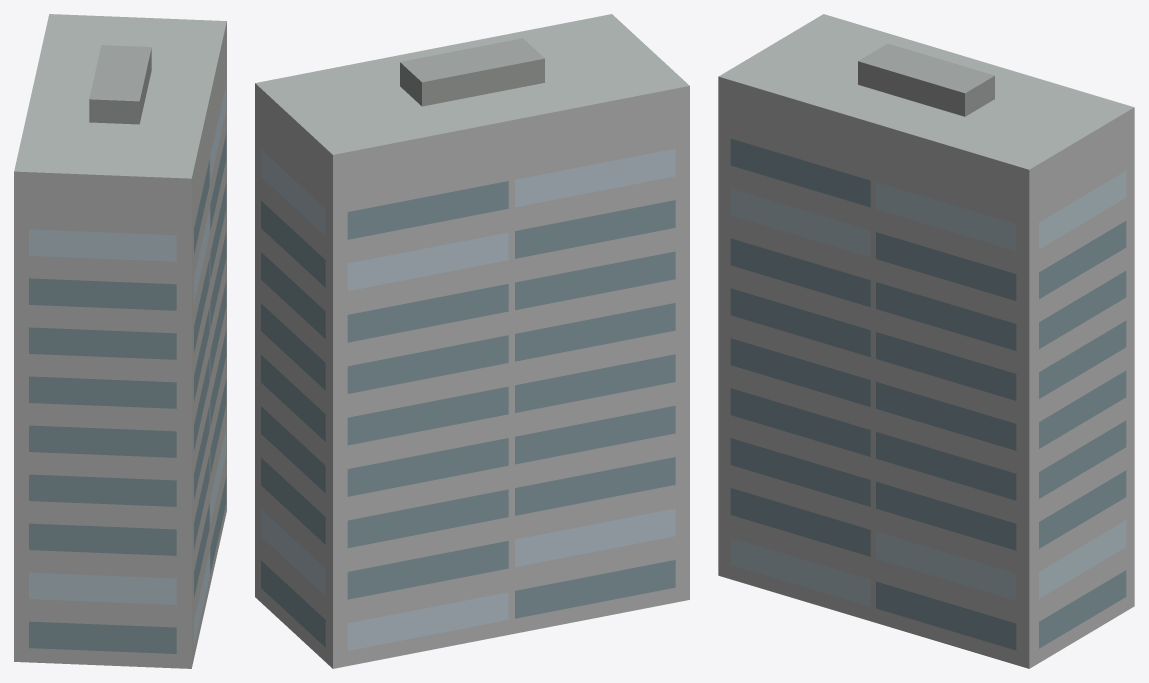
The model's file is fallback-dmc-parkview-xi-completion-403.glb.
The picture shows the model from 3 angles, left to right: view 1: azimuth 30°, elevation 25°; view 2: azimuth 150°, elevation 25°; view 3: azimuth 270°, elevation 25°; orthographic projection. The views are drawn at different scales.
Parts seen in each view (by area): view 1: fallback-dmc-parkview-xi-completion-403; view 2: fallback-dmc-parkview-xi-completion-403; view 3: fallback-dmc-parkview-xi-completion-403.
Part boxes in pixels (x1,y1,x2,y2): fallback-dmc-parkview-xi-completion-403: [14, 14, 226, 668]; fallback-dmc-parkview-xi-completion-403: [255, 14, 689, 668]; fallback-dmc-parkview-xi-completion-403: [718, 14, 1134, 668].
Size of the model in its own units: 19.83 by 31 by 22.36.
